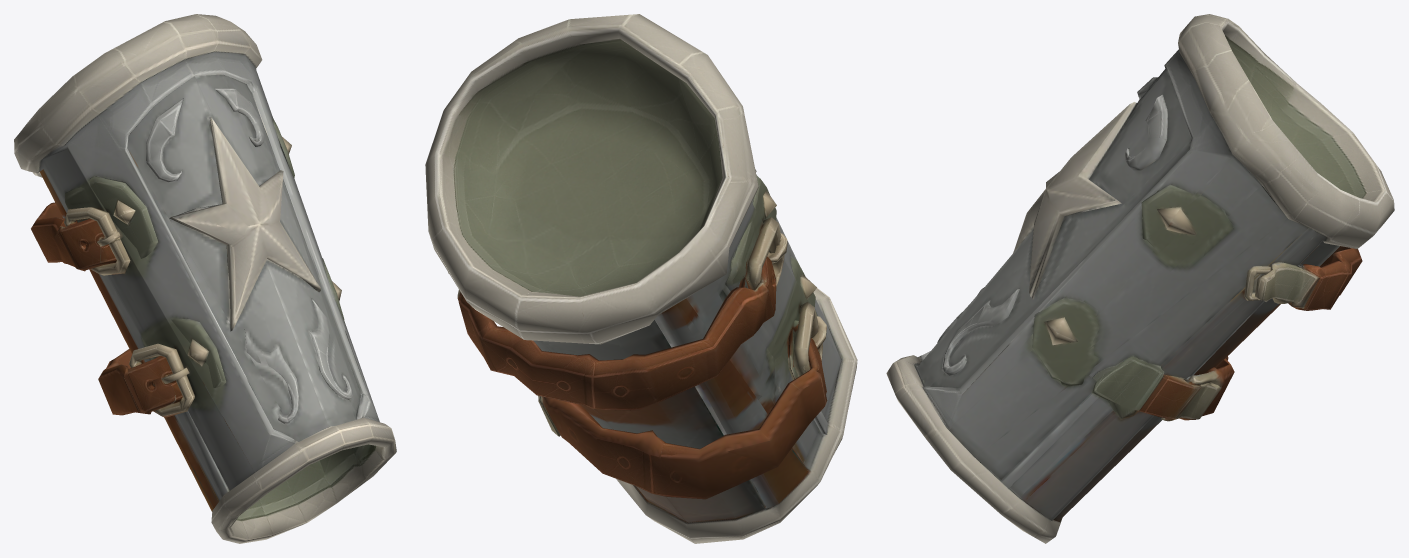
Rendered from silver-bracer-i1_i23d.glb.
3 views of the same model, side by side, from view 1: azimuth 30°, elevation 25°; view 2: azimuth 150°, elevation 25°; view 3: azimuth 270°, elevation 25° (orthographic). The views are drawn at different scales.
Bounding box in the file's own units: 0.4912 × 0.9517 × 0.875.
1 material, 1 textured.
